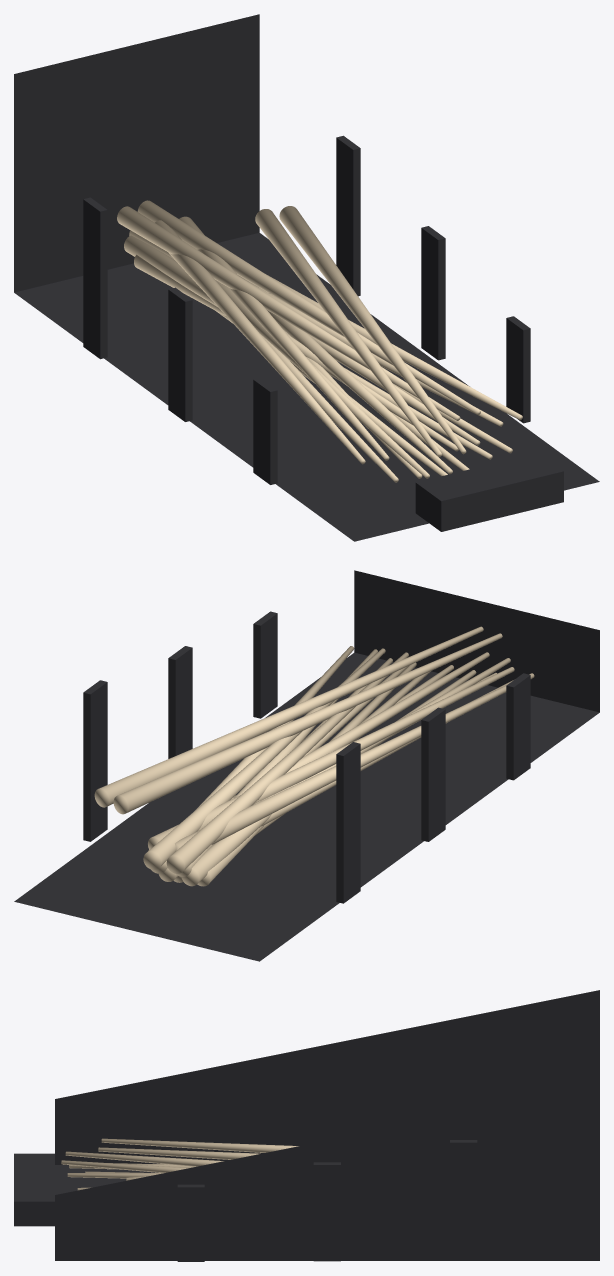
The model's file is Chopstick holder.glb.
3 renders of one model, top to bottom at view 1: azimuth 30°, elevation 25°; view 2: azimuth 150°, elevation 25°; view 3: azimuth 270°, elevation 25°, orthographic. The views are drawn at different scales.
Visible parts, largest first — view 1: ChopstickBin_Body, ChopstickPair_7, ChopstickPair_8, ChopstickBin_Tab, ChopstickPair_6, ChopstickPair_4, ChopstickBin_Rib_L_2, ChopstickPair_3, ChopstickBin_Rib_R_2, ChopstickBin_Rib_R_1, ChopstickBin_Rib_L_1, ChopstickPair_5 (+5 smaller); view 2: ChopstickBin_Body, ChopstickPair_8, ChopstickPair_7, ChopstickPair_6, ChopstickBin_Rib_L_2, ChopstickBin_Rib_R_2, ChopstickBin_Rib_L_1, ChopstickPair_4, ChopstickPair_3, ChopstickBin_Rib_R_1, ChopstickBin_Rib_L_0, ChopstickBin_Rib_R_0 (+5 smaller); view 3: ChopstickBin_Body, ChopstickBin_Rib_R_2, ChopstickBin_Tab, ChopstickBin_Rib_R_1, ChopstickPair_6, ChopstickBin_Rib_R_0, ChopstickPair_8, ChopstickPair_4.
Part boxes in pixels (bbox=[...]): ChopstickBin_Body: bbox=[14, 14, 599, 541]; ChopstickPair_7: bbox=[117, 200, 480, 420]; ChopstickPair_8: bbox=[255, 206, 466, 456]; ChopstickBin_Tab: bbox=[415, 452, 563, 531]; ChopstickPair_6: bbox=[155, 216, 389, 464]; ChopstickPair_4: bbox=[215, 275, 452, 478]; ChopstickBin_Rib_L_2: bbox=[83, 197, 107, 359]; ChopstickPair_3: bbox=[124, 235, 480, 451]; ChopstickBin_Rib_R_2: bbox=[336, 135, 360, 296]; ChopstickBin_Rib_R_1: bbox=[421, 226, 445, 360]; ChopstickBin_Rib_L_1: bbox=[168, 287, 192, 421]; ChopstickPair_5: bbox=[129, 230, 522, 426]; ChopstickBin_Body: bbox=[14, 570, 599, 961]; ChopstickPair_8: bbox=[94, 626, 502, 814]; ChopstickPair_7: bbox=[143, 648, 408, 873]; ChopstickPair_6: bbox=[148, 667, 534, 851]; ChopstickBin_Rib_L_2: bbox=[336, 742, 360, 903]; ChopstickBin_Rib_R_2: bbox=[83, 680, 107, 841]; ChopstickBin_Rib_L_1: bbox=[421, 707, 445, 841]; ChopstickPair_4: bbox=[231, 652, 510, 804]; ChopstickPair_3: bbox=[158, 666, 430, 886]; ChopstickBin_Rib_R_1: bbox=[168, 646, 192, 758]; ChopstickBin_Rib_L_0: bbox=[506, 673, 530, 780]; ChopstickBin_Rib_R_0: bbox=[253, 611, 277, 718]; ChopstickBin_Body: bbox=[55, 990, 599, 1260]; ChopstickBin_Rib_R_2: bbox=[450, 1140, 477, 1260]; ChopstickBin_Tab: bbox=[14, 1153, 54, 1226]; ChopstickBin_Rib_R_1: bbox=[313, 1162, 340, 1261]; ChopstickPair_6: bbox=[98, 1138, 298, 1159]; ChopstickBin_Rib_R_0: bbox=[177, 1184, 204, 1261]; ChopstickPair_8: bbox=[61, 1151, 223, 1173]; ChopstickPair_4: bbox=[67, 1164, 194, 1178].
Size of the model in its own units: 0.106 by 0.085 by 0.258.
